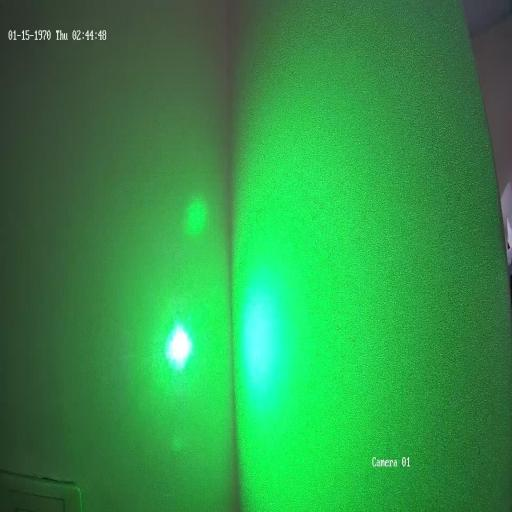laser: (162, 311, 195, 379)
